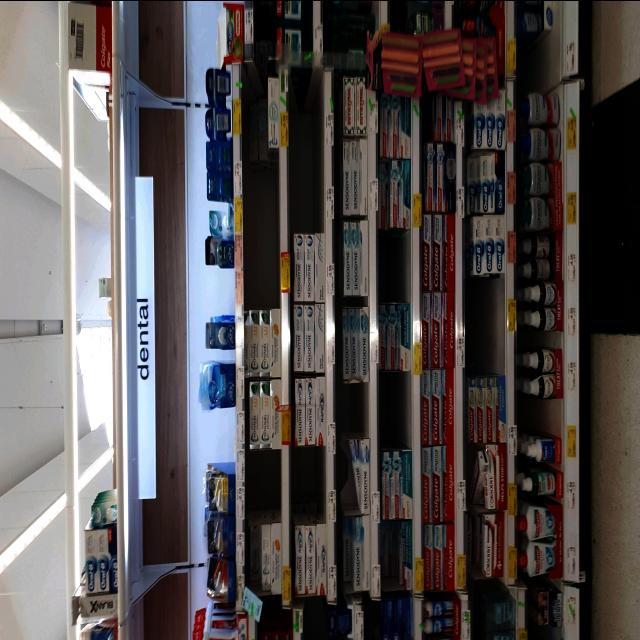empty_space: (246, 170, 280, 308), (465, 277, 505, 377), (295, 113, 319, 227), (379, 374, 409, 444), (381, 232, 411, 300), (249, 446, 283, 506), (522, 43, 562, 91), (294, 448, 324, 504), (521, 398, 559, 430), (210, 409, 232, 463), (213, 270, 235, 314)
